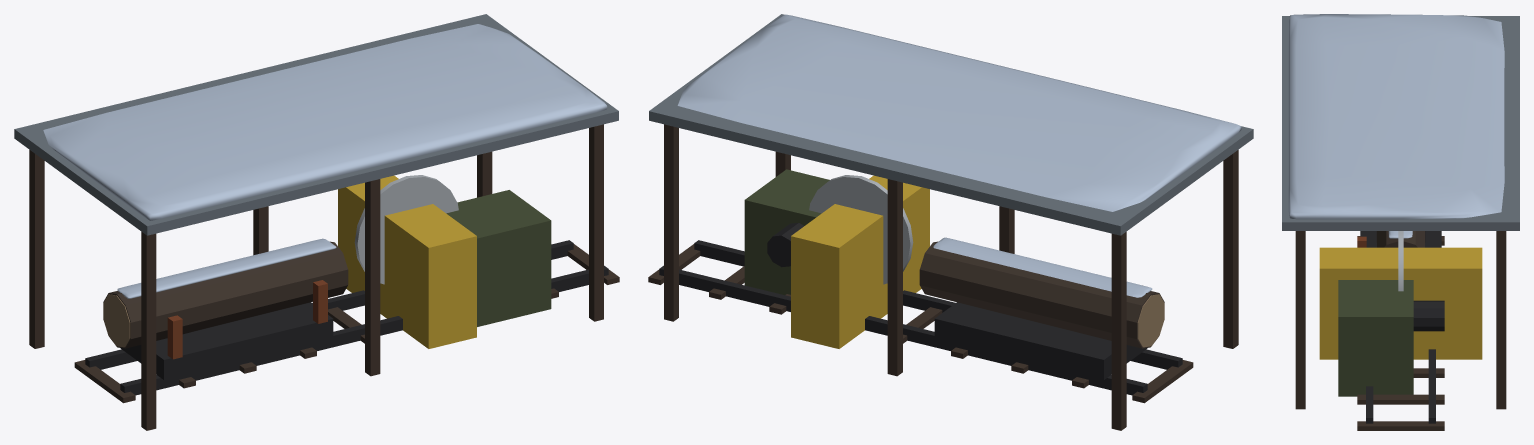
Rendered from sawmill_saw.glb.
3 views of the same model, side by side, from view 1: azimuth 30°, elevation 25°; view 2: azimuth 150°, elevation 25°; view 3: azimuth 270°, elevation 25° (orthographic). The views are drawn at different scales.
Visible parts, largest first — view 1: Prop; view 2: Prop; view 3: Prop.
Part boxes in pixels (x1,y1,x2,y2): Prop: (14, 14, 619, 430); Prop: (648, 14, 1253, 430); Prop: (1282, 14, 1519, 430).
Size of the model in its own units: 8.5 by 3.5 by 3.8.
